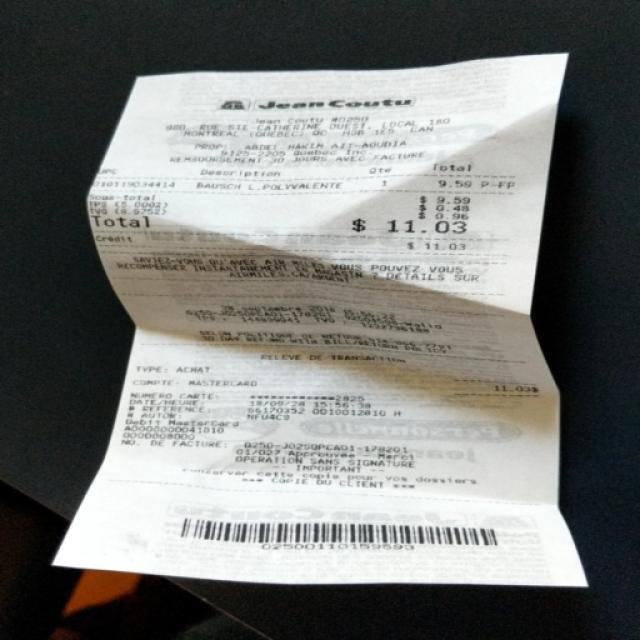document: (57, 55, 586, 584)
